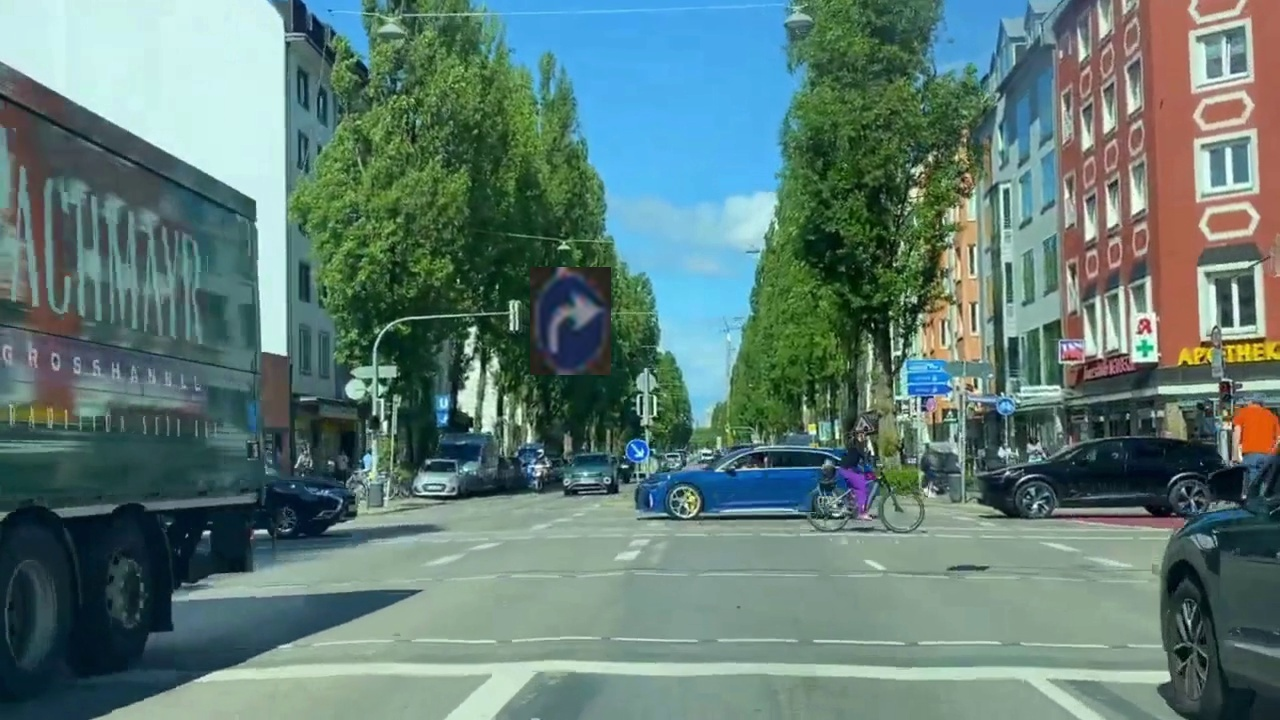Turn right: (530, 267, 611, 375)
